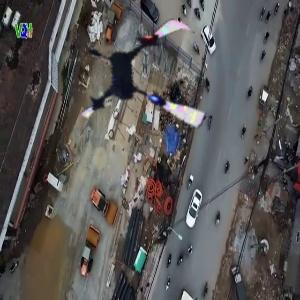drone: (73, 3, 221, 151)
